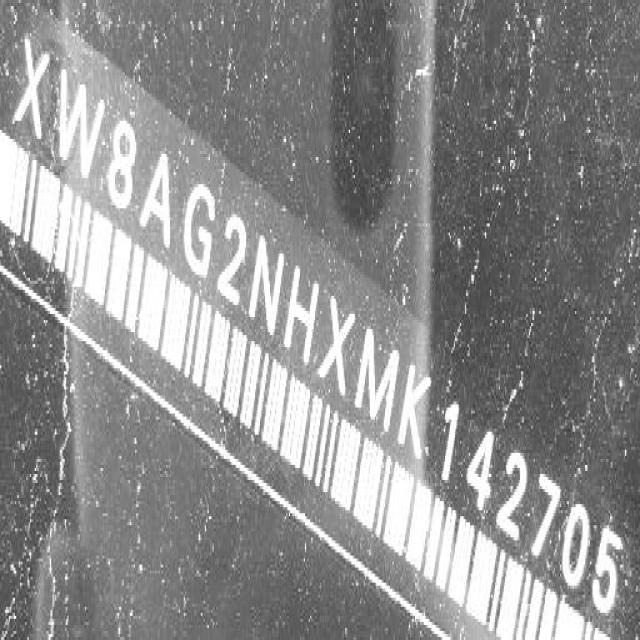0: (548, 487, 597, 600)
1: (427, 382, 468, 498)
2: (485, 440, 537, 554), (211, 200, 254, 315)
4: (456, 405, 501, 519)
5: (580, 508, 637, 629)
7: (521, 458, 568, 574)
8: (102, 104, 144, 220)
A: (133, 136, 182, 260)
G: (177, 169, 224, 288)
H: (278, 250, 326, 376)
K: (398, 358, 432, 466)
M: (349, 313, 404, 439)
N: (242, 221, 292, 346)
W: (55, 61, 103, 182)
X: (4, 26, 58, 154), (311, 276, 363, 403)
